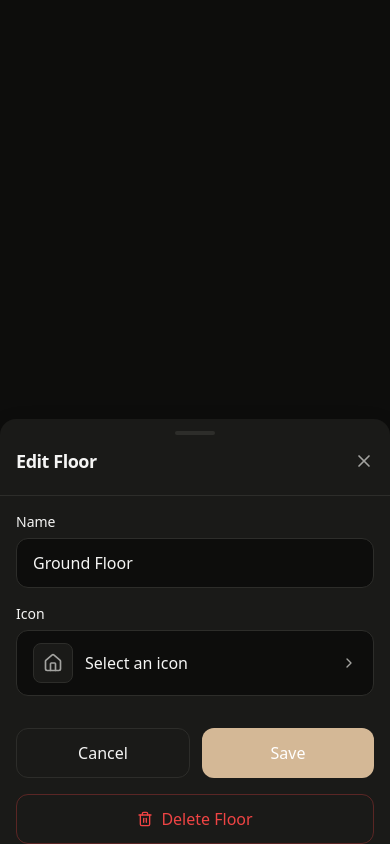
Test: FloorEditModal › should show error toast on API failure
Type "New Name" into the field with placeholder "Ground Floor" at {"x": 195, "y": 563}, box [16, 538, 374, 588]
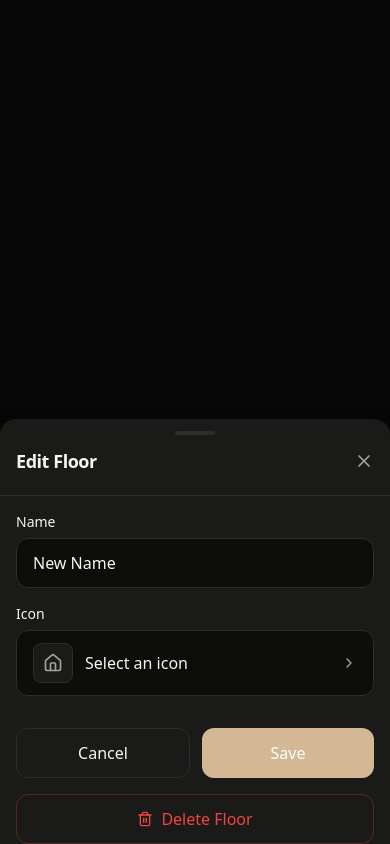
Click the button "Save" at {"x": 288, "y": 753}, box [202, 728, 374, 778]
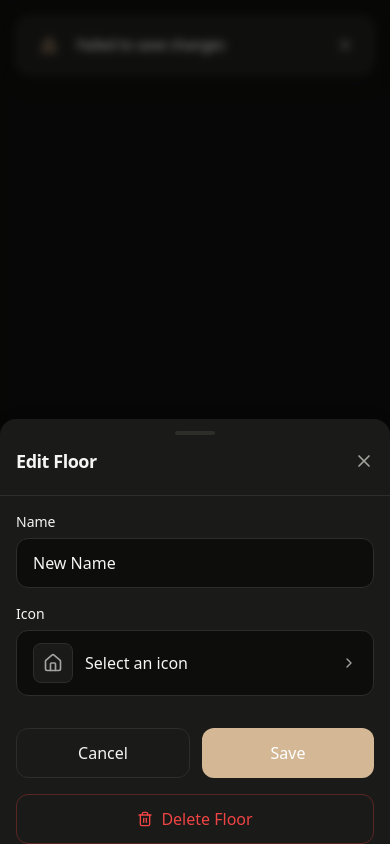
Now the text "Failed to save changes" is shown, box [77, 35, 225, 54]
